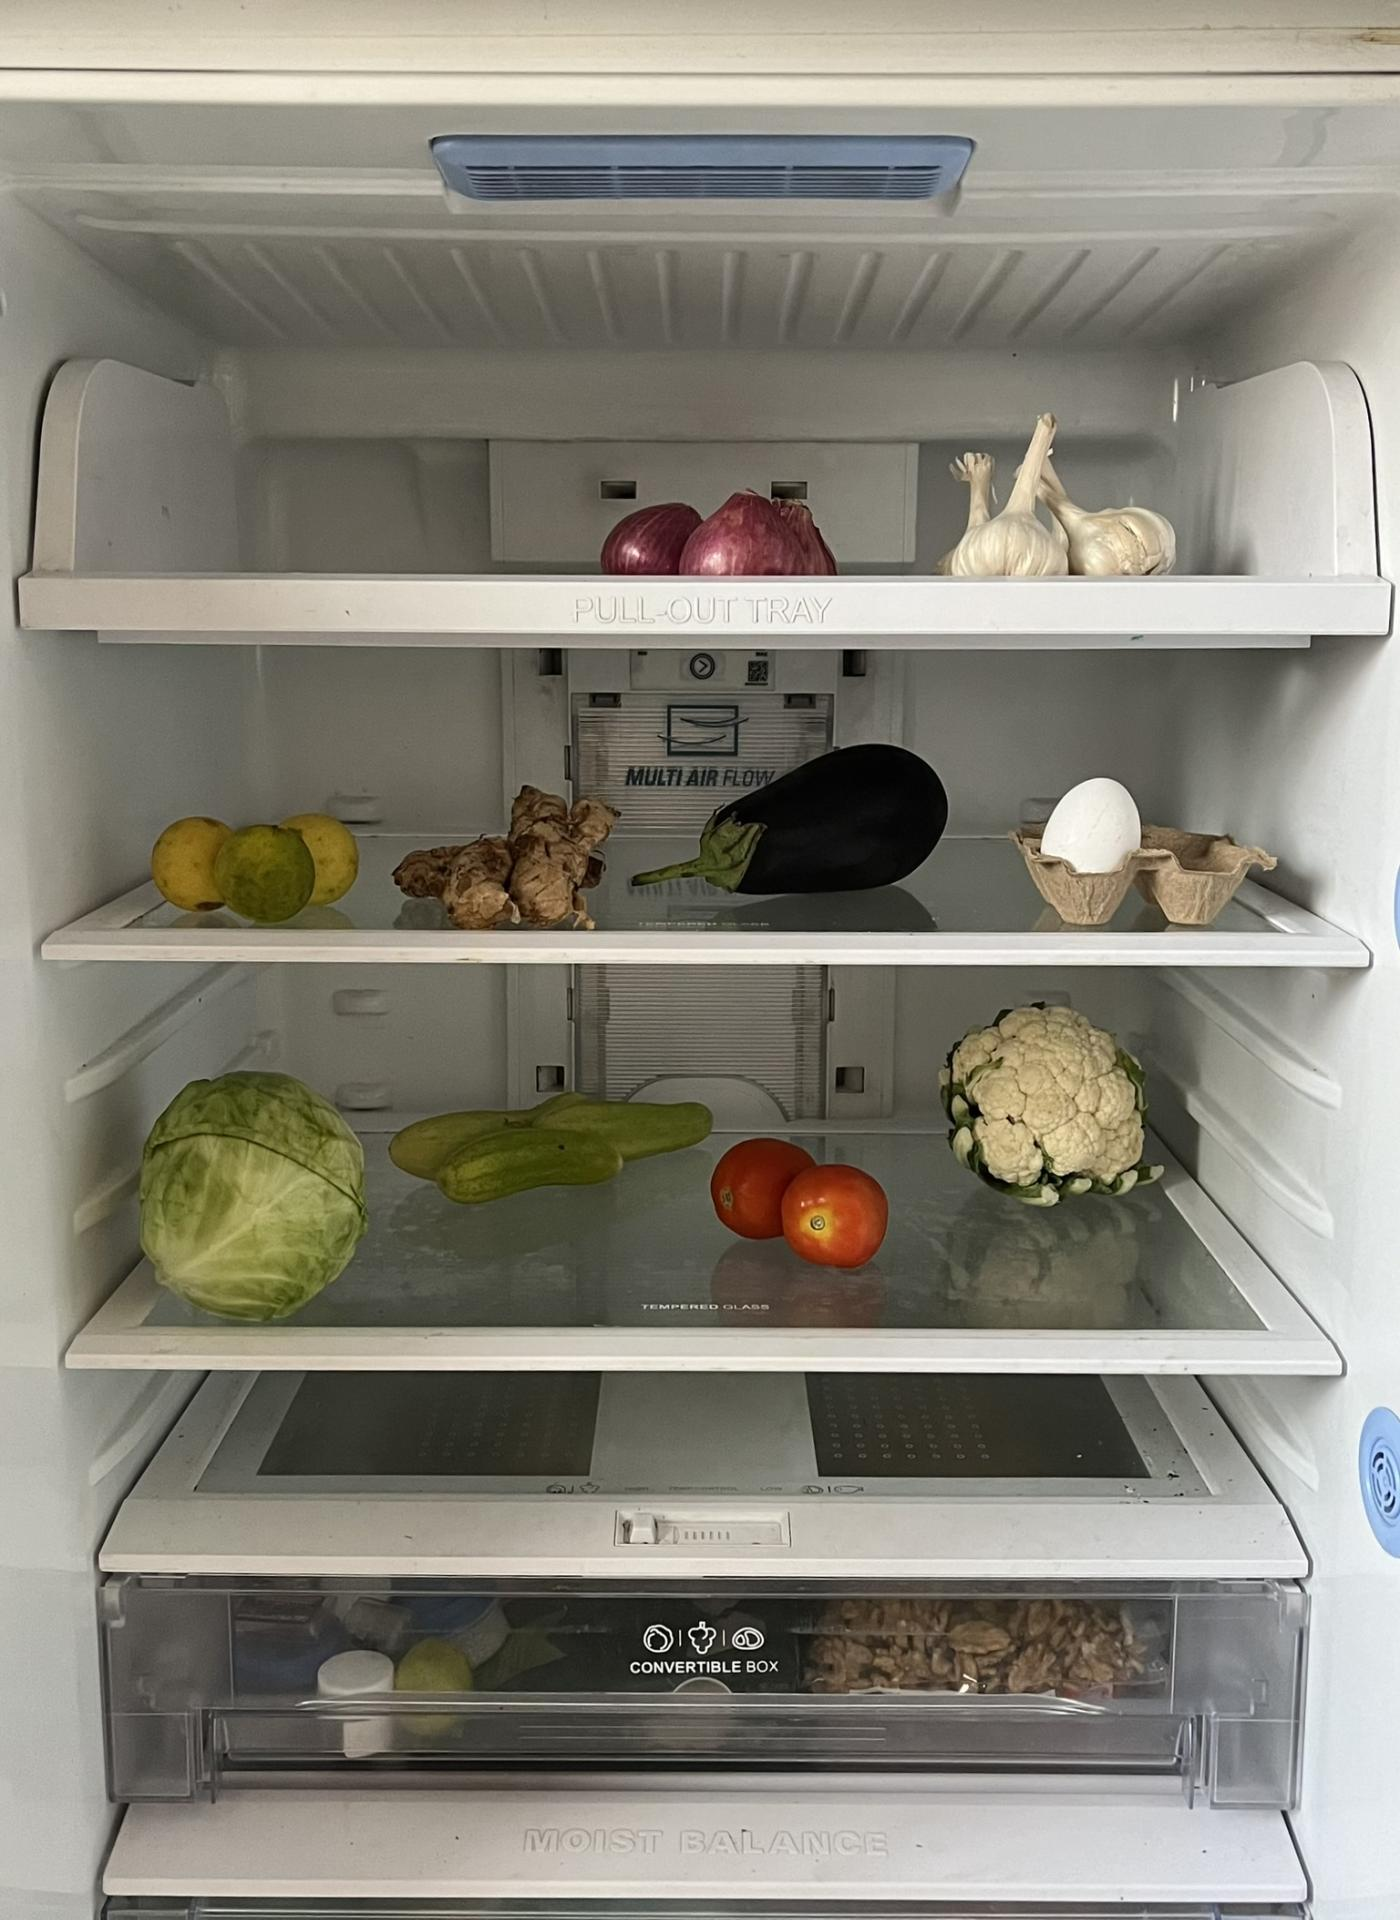brinjal: (658, 733, 939, 893)
cabbage: (143, 1057, 356, 1331)
cauliflower: (950, 1005, 1155, 1212)
cucumber: (385, 1094, 717, 1193)
egg: (1045, 760, 1141, 877)
garlic: (936, 423, 1182, 574)
ginger: (403, 780, 623, 927)
lemon: (143, 798, 350, 915)
onion: (608, 489, 827, 593)
tomato: (704, 1131, 893, 1272)
